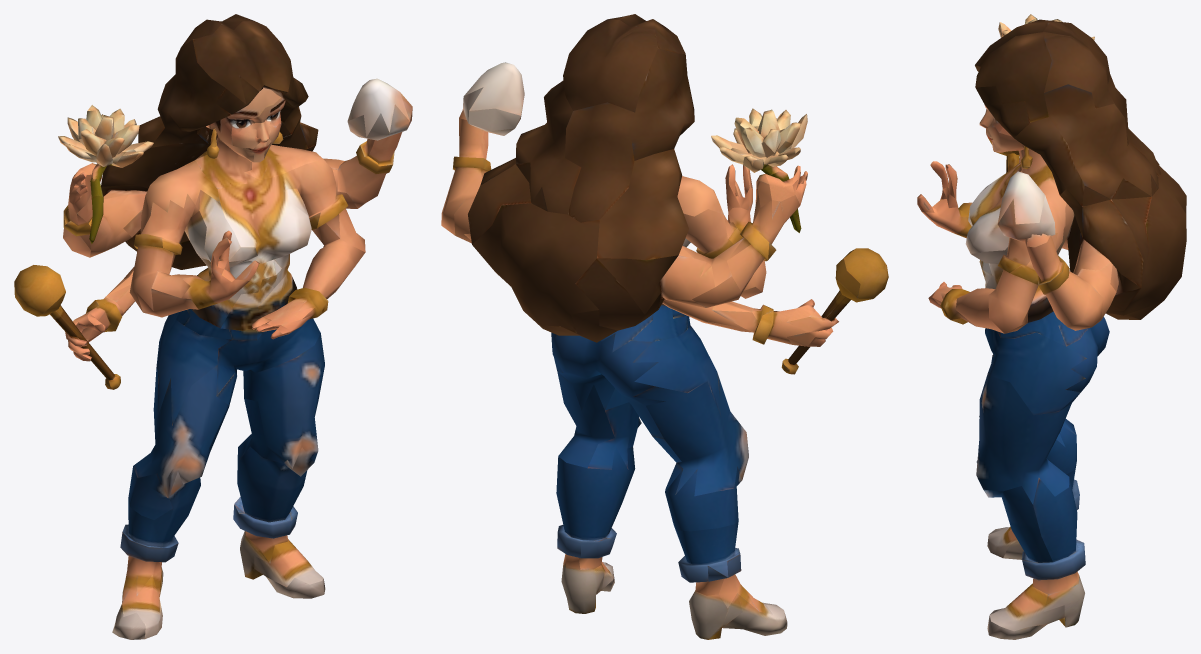
The model's file is nong_cake.glb.
3 views of the same model, side by side, from view 1: azimuth 30°, elevation 25°; view 2: azimuth 150°, elevation 25°; view 3: azimuth 270°, elevation 25° (orthographic). The views are drawn at different scales.
Parts seen in each view (by area): view 1: mesh_node; view 2: mesh_node; view 3: mesh_node.
Part boxes in pixels (x1=…): mesh_node: x1=14, y1=14, x2=412, y2=639; mesh_node: x1=441, y1=14, x2=888, y2=639; mesh_node: x1=917, y1=14, x2=1186, y2=639.
Bounding box in the file's own units: 0.7363 × 1 × 0.4238.
1 material, 1 textured.
